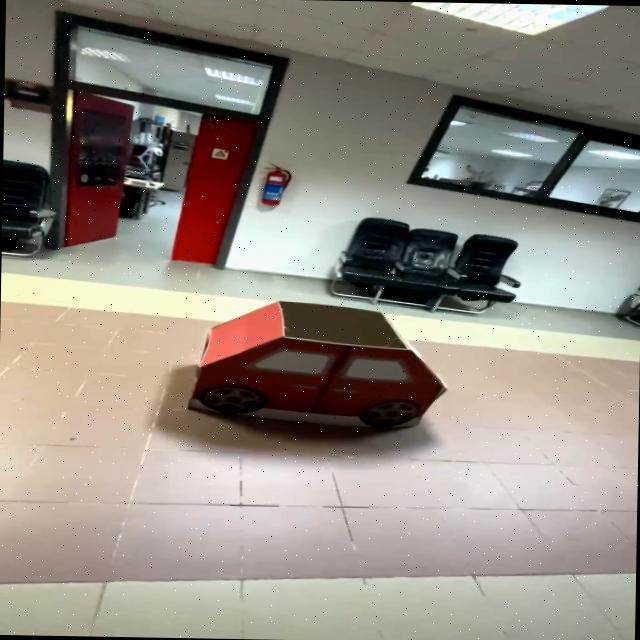red_car: (169, 286, 465, 454)
